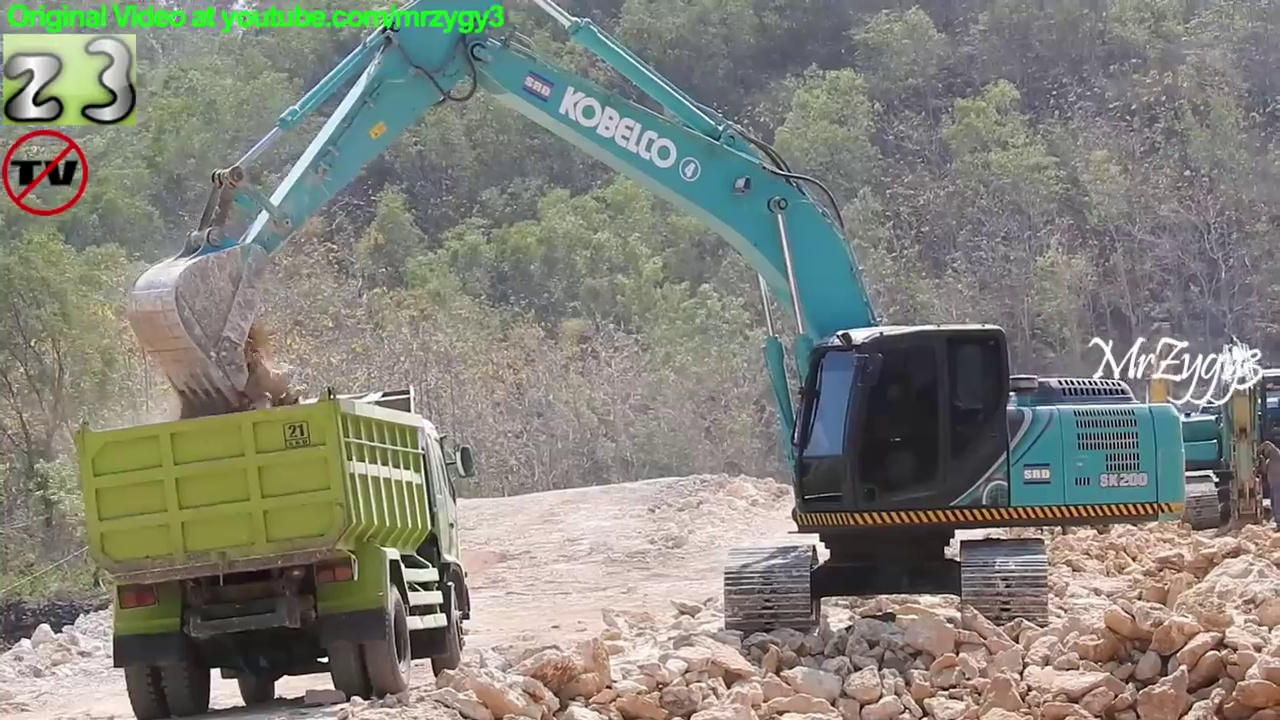excavator: (119, 1, 1198, 647), (1093, 309, 1226, 519), (1160, 328, 1280, 551)
truck: (68, 376, 483, 720)
worker: (1253, 431, 1280, 532)
